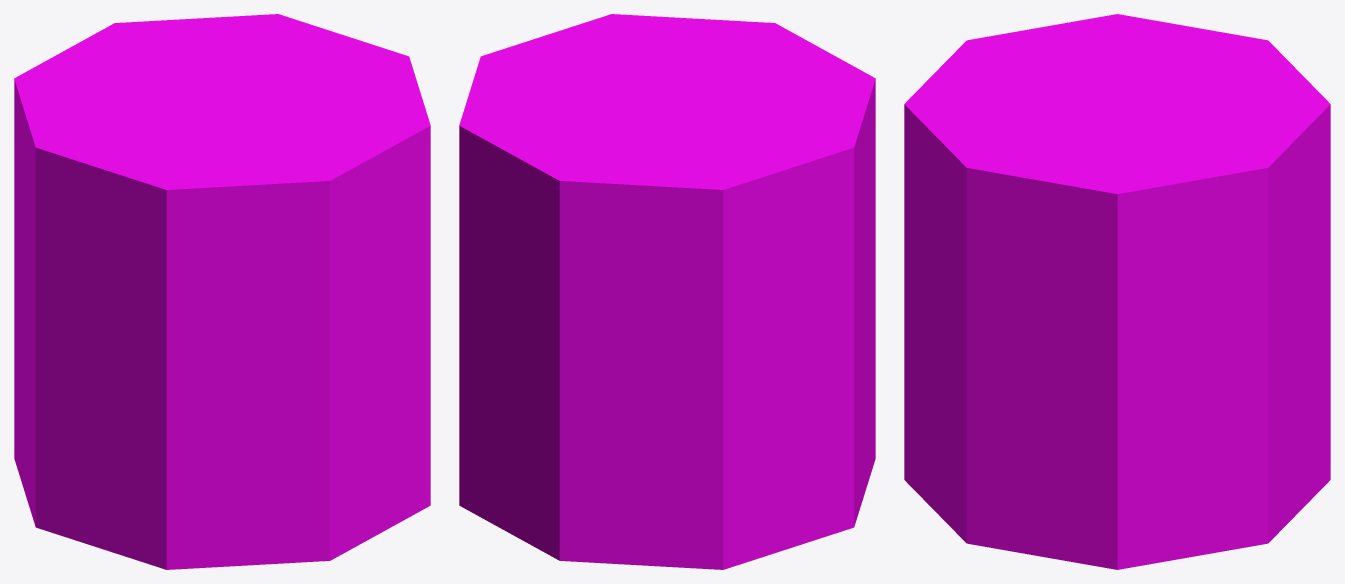
Rendered from scrub_med.dae.
3 views of the same model, side by side, from view 1: azimuth 30°, elevation 25°; view 2: azimuth 150°, elevation 25°; view 3: azimuth 270°, elevation 25° (orthographic).
Parts seen in each view (by area): view 1: Colmesh_scrub-1; view 2: Colmesh_scrub-1; view 3: Colmesh_scrub-1.
Boxes of the visible parts, x1,y1,x2,y2 form: Colmesh_scrub-1: [14, 14, 430, 569]; Colmesh_scrub-1: [459, 14, 875, 569]; Colmesh_scrub-1: [904, 14, 1330, 569].
Size of the model in its own units: 0.72 by 0.72 by 0.7058.
